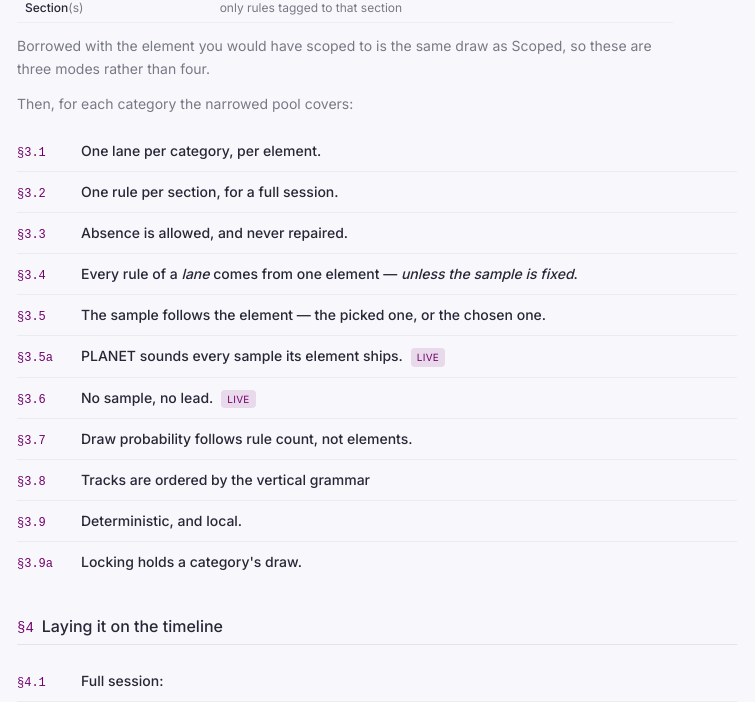
Test: RulebookPage — live evidence › names the real planet bodies under §3.5a
(page scrolled)
Click the button "§3.5a PLANET sounds every sample its element ships. live". click: click(377, 357)
box: [17,336,737,377]
(page scrolled)
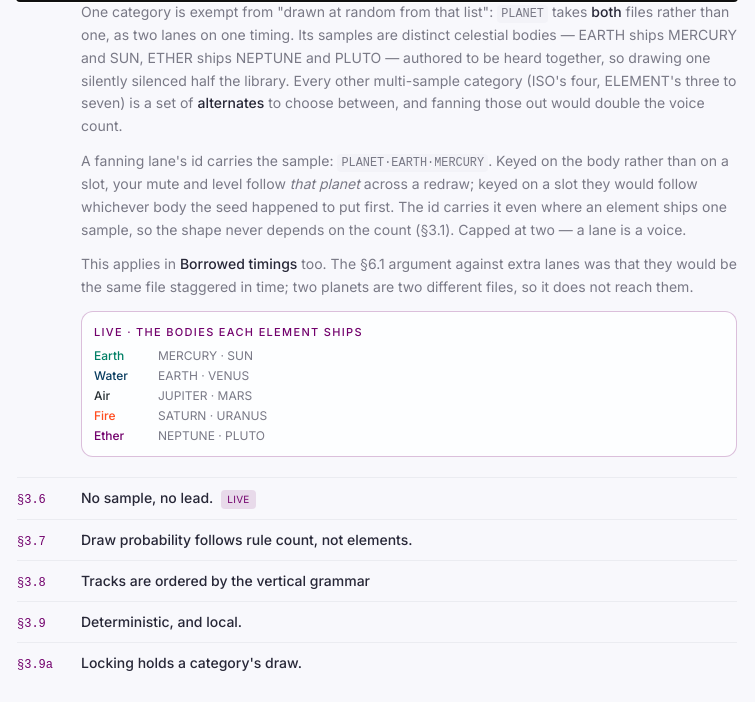
Expected: the text "MERCURY · SUN" is shown, [158,348,253,364]
